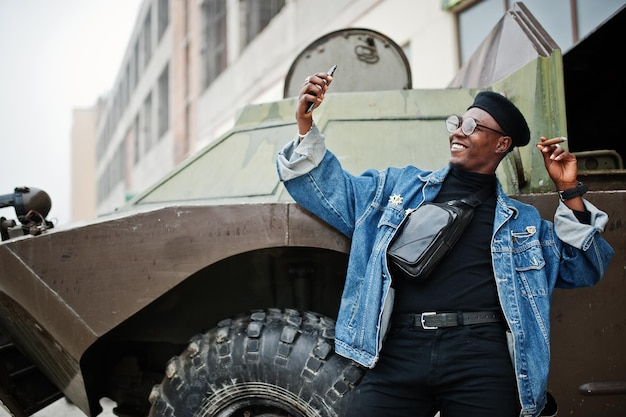cigarette: (535, 137, 567, 149)
